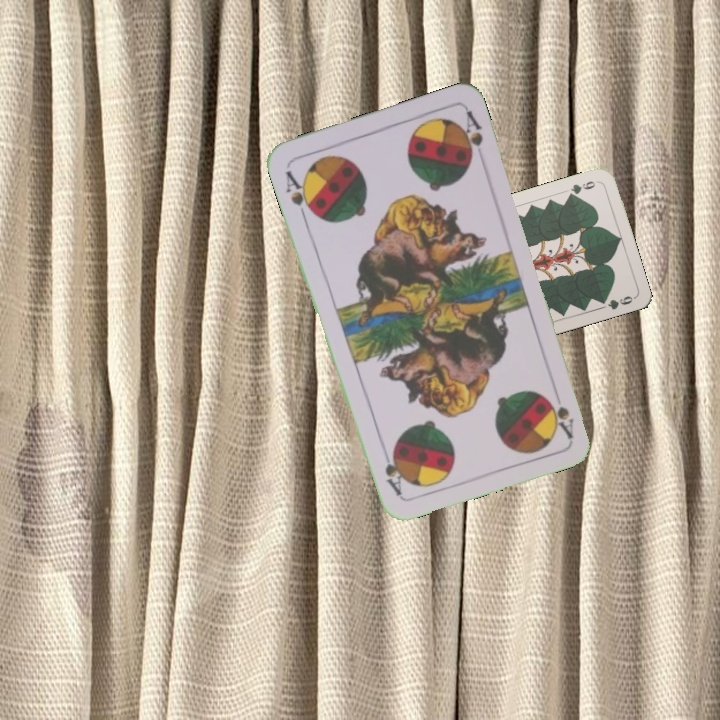G9: (564, 177, 601, 200)
SA: (281, 166, 318, 222), (546, 383, 576, 441)
